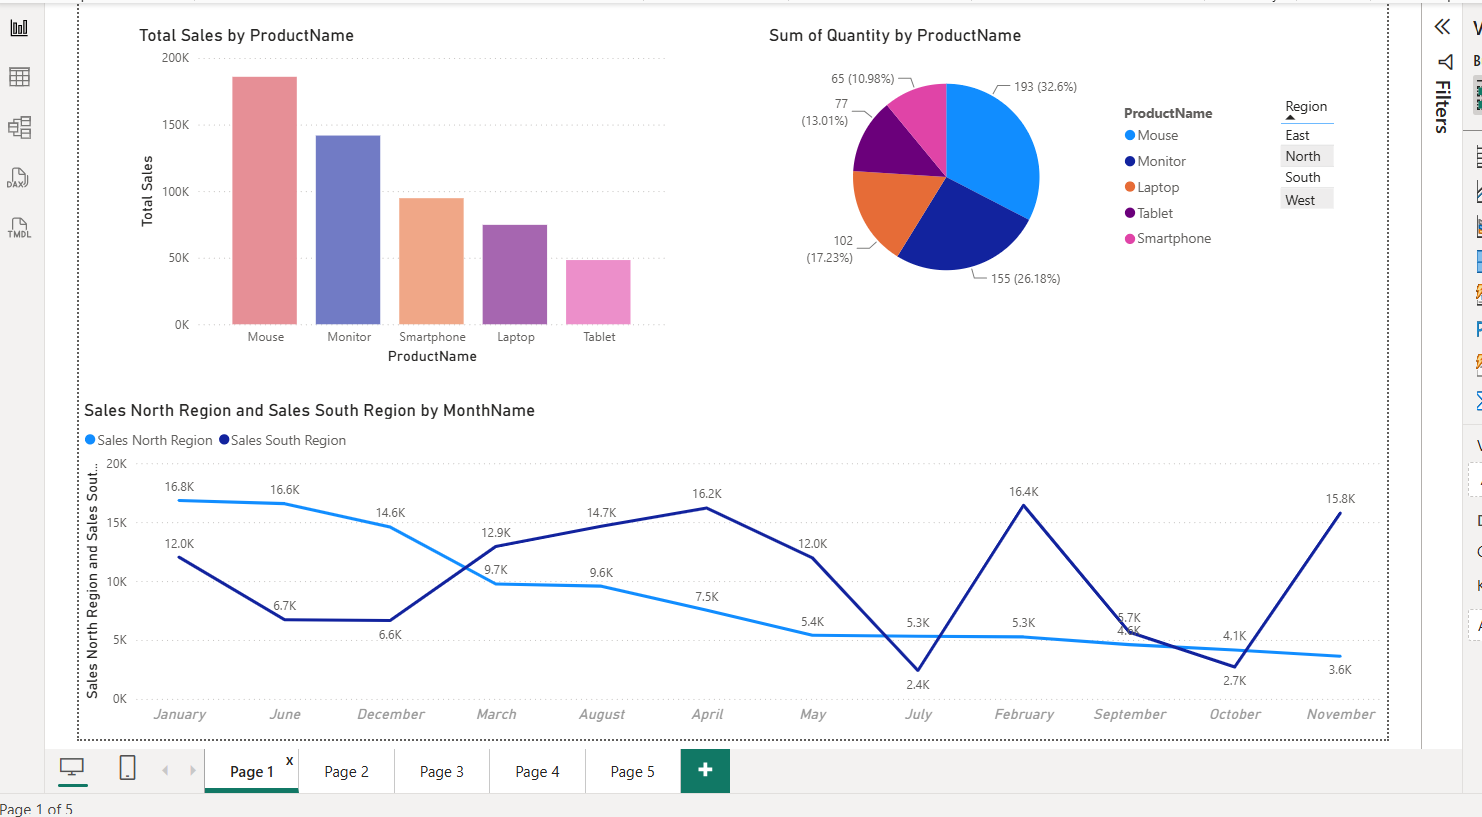

Layout of this report page (visuals, bound fields, positions):
{"tool":"powerbi","page":{"name":"Page 1","canvas":[1280,720],"ordinal":0},"visuals":[{"type":"columnChart","fields":{"Category":["Dim_Products.ProductName"],"Y":["Fact_Sales.Total Sales"]},"box":[53.8,20.8,525.8,337.5],"z":0},{"type":"lineChart","fields":{"Y":["Fact_Sales.Sales North Region","Fact_Sales.Sales South Region"],"Category":["Dim_Date.MonthName"]},"box":[0,387.6,1280.3,324.1],"z":1000},{"type":"pieChart","fields":{"Category":["Dim_Products.ProductName"],"Y":["Sum(Fact_Sales.Quantity)"]},"box":[670.1,20.8,461,280],"z":1001},{"type":"tableEx","fields":{"Values":["Dim_Customers.Region"]},"box":[1169,84.4,99,150.4],"z":1002}]}

Visuals, with their boxes on the page's 1280x720 design canvas (x1, y1, x2, y2). These are canvas units, not pixel positions in the 1482x817 screenshot, which may show the page scaled, cropped or inside an application window:
columnChart - Dim_Products.ProductName x Fact_Sales.Total Sales: detection(54, 21, 580, 358)
lineChart - Fact_Sales.Sales North Region x Fact_Sales.Sales South Region: detection(0, 388, 1280, 712)
pieChart - Dim_Products.ProductName x Sum(Fact_Sales.Quantity): detection(670, 21, 1131, 301)
tableEx - Dim_Customers.Region: detection(1169, 84, 1268, 235)
